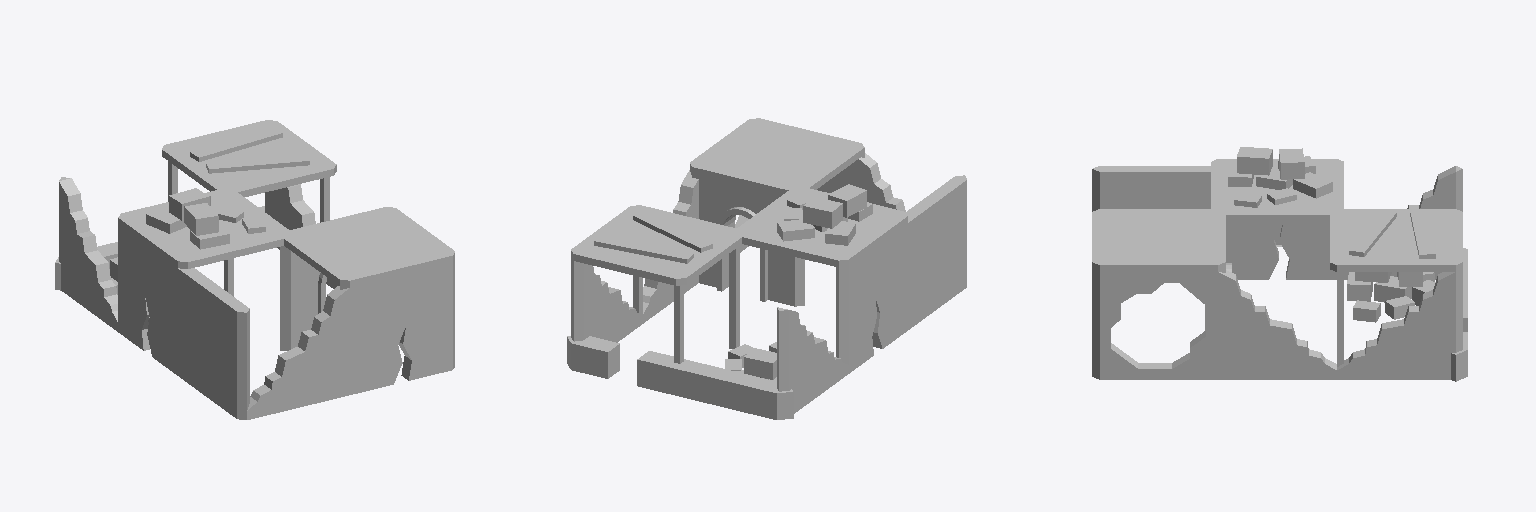
The model's file is Casa 7 Semi Rota.obj.
The picture shows the model from 3 angles: view 1: azimuth 30°, elevation 25°; view 2: azimuth 150°, elevation 25°; view 3: azimuth 270°, elevation 25°; orthographic projection.
Bounding box in the file's own units: 2.21 × 1.31 × 3.17.